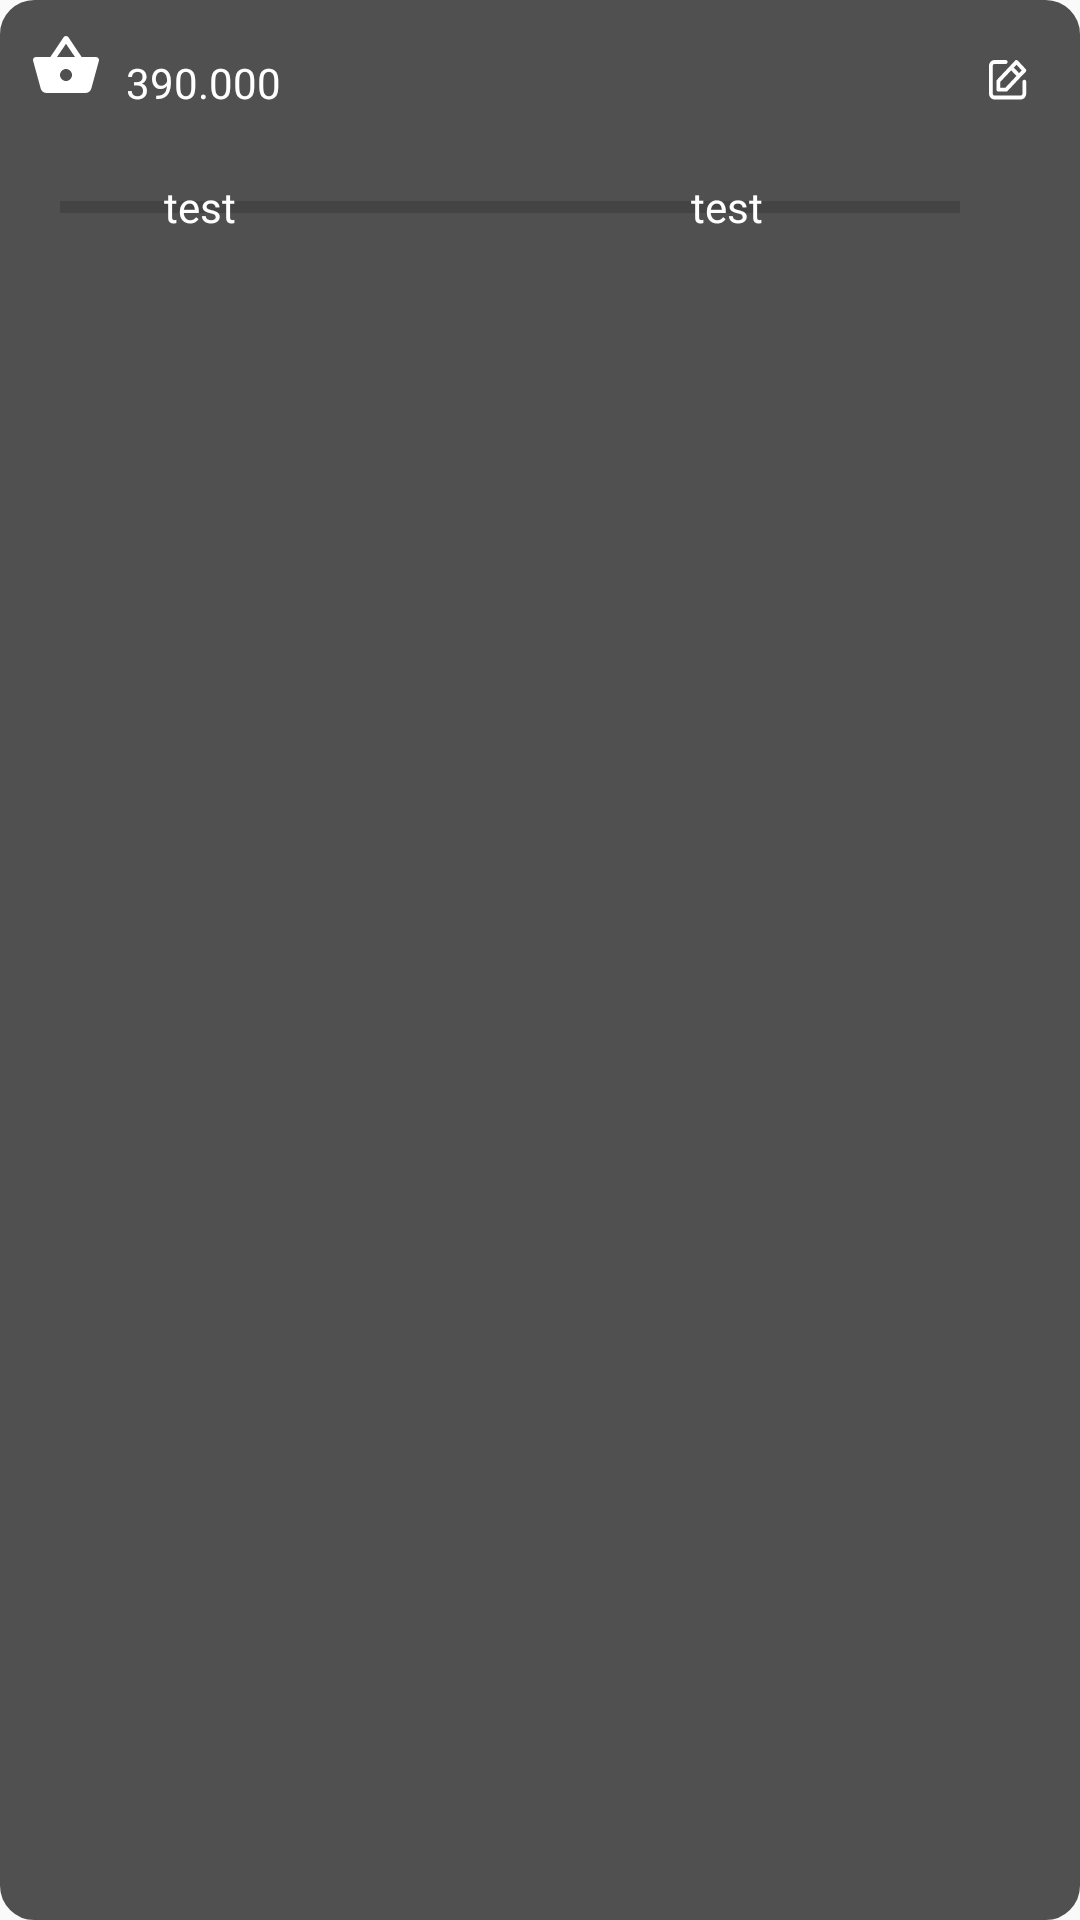

Screen size 1080 x 1920. Icon name, then its center in pixels as point (x, y):
edit: point (1008, 80)
shopping: point (66, 64)
